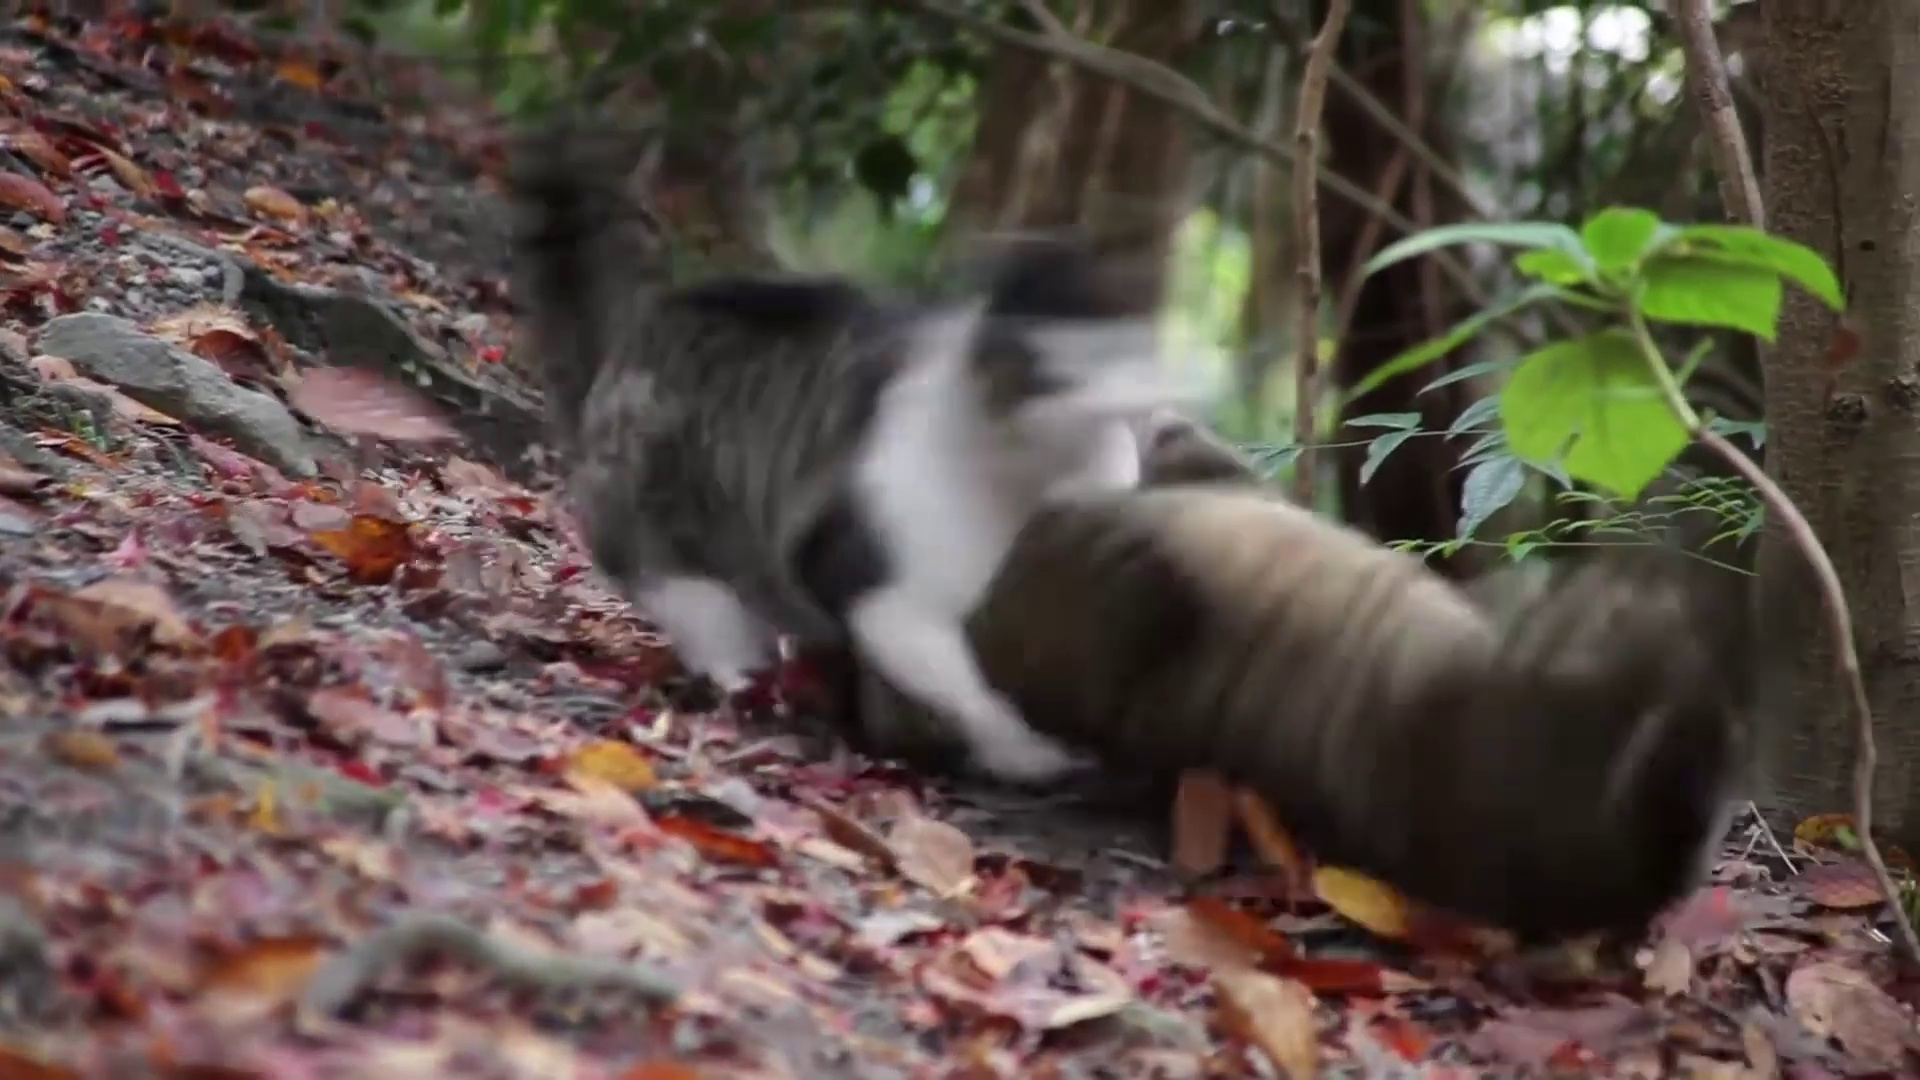black-white: (575, 237, 1180, 781)
pure black: (915, 480, 1701, 920)
